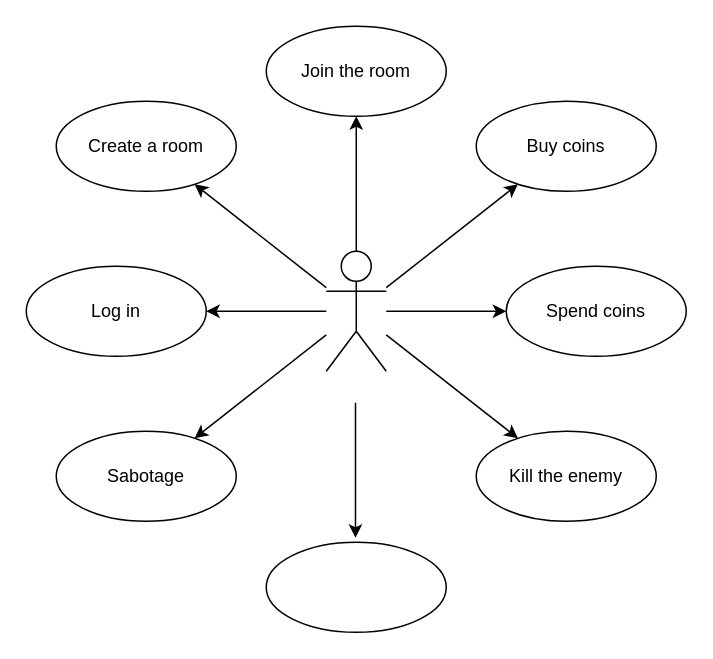
Some shapes in this 713 by 659 pixel diagram are drawn without their labels. The shapes that lost their labels are listed below. From the top down, each one's centre as x and y in pixels, then its label:
pixel 355 310: User
pixel 355 586: Go to ventilation
